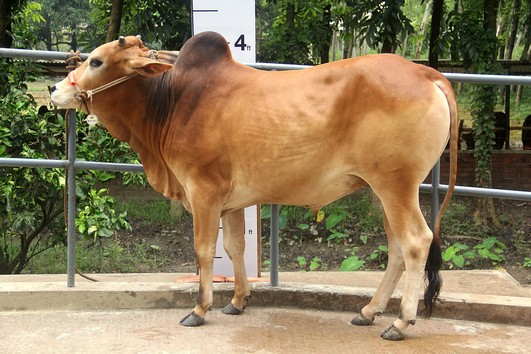cow: (41, 25, 461, 341)
